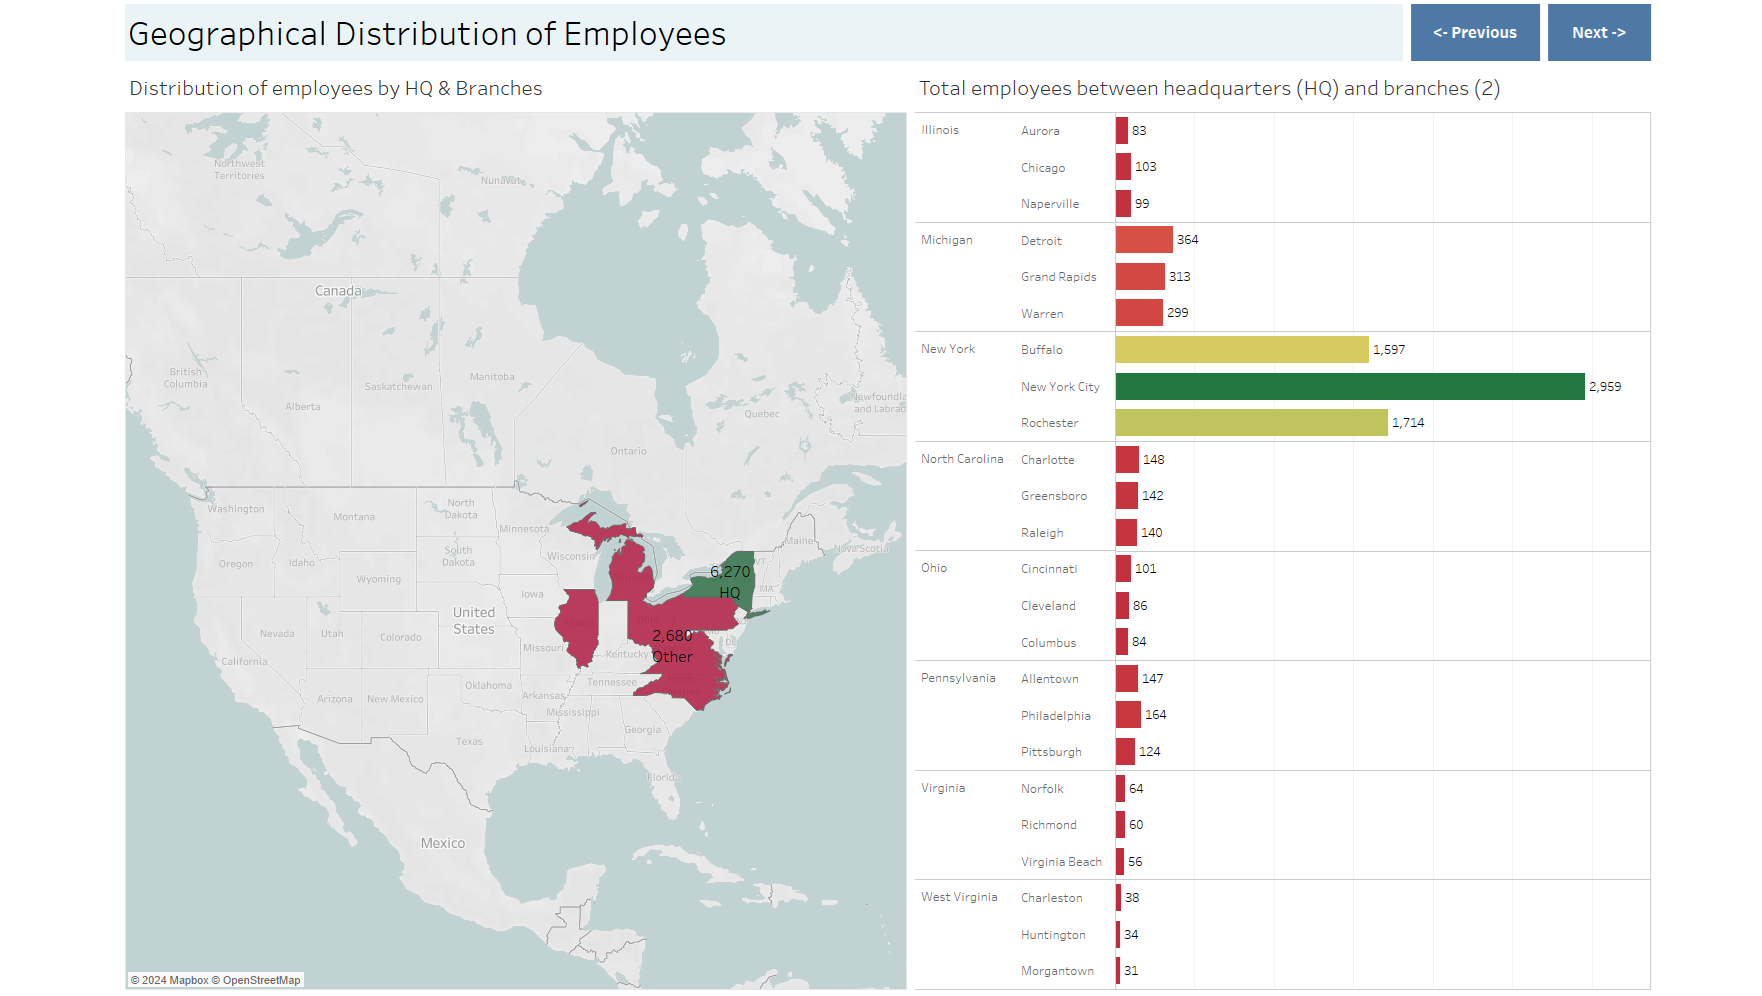

The dashboard page shown, as its layout file describes it:
{"tool":"tableau","page":{"name":"Geographical Distribution of Employees","canvas":[1000,1000],"units":"permille","ordinal":1},"visuals":[{"type":"text","box":[5.2,7.1,829.7,64.7]},{"type":"dashboard-object","box":[834.8,7.1,88.4,64.7]},{"type":"dashboard-object","box":[923.2,7.1,71.6,64.7]},{"type":"worksheet","title":"Distribution of employees by HQ & Branches","mark":"Automatic","box":[5.2,71.8,509.7,921.1]},{"type":"worksheet","title":"Total employees between headquarters (HQ) and branches (2)","mark":"Automatic","rows":["State","City"],"cols":["Employee_ID"],"box":[514.8,71.8,480,921.1]}]}

Visuals, with their boxes on the dashboard's canvas, which has no fixed pixel size, in thousandths of its width and height (x1, y1, x2, y2). These are canvas units, not pixel positions in the 1762x996 screenshot, which may show the page scaled, cropped or inside an application window:
text: <bbox>5, 7, 835, 72</bbox>
dashboard-object: <bbox>835, 7, 923, 72</bbox>
dashboard-object: <bbox>923, 7, 995, 72</bbox>
"Distribution of employees by HQ & Branches" worksheet: <bbox>5, 72, 515, 993</bbox>
"Total employees between headquarters (HQ) and branches (2)" worksheet: <bbox>515, 72, 995, 993</bbox>
